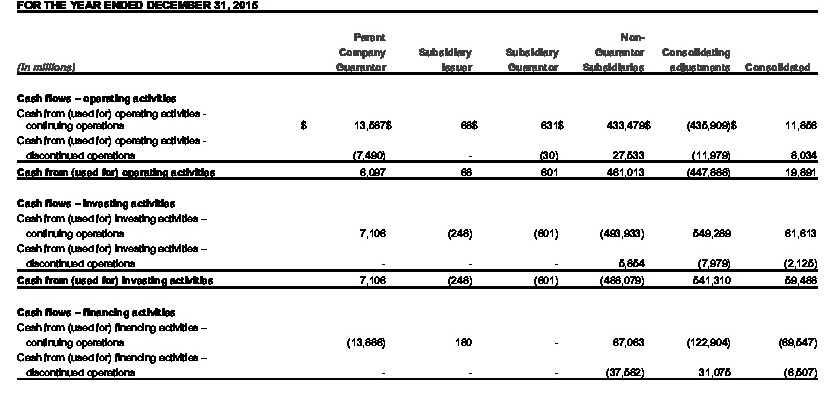table: (0, 0, 837, 394)
